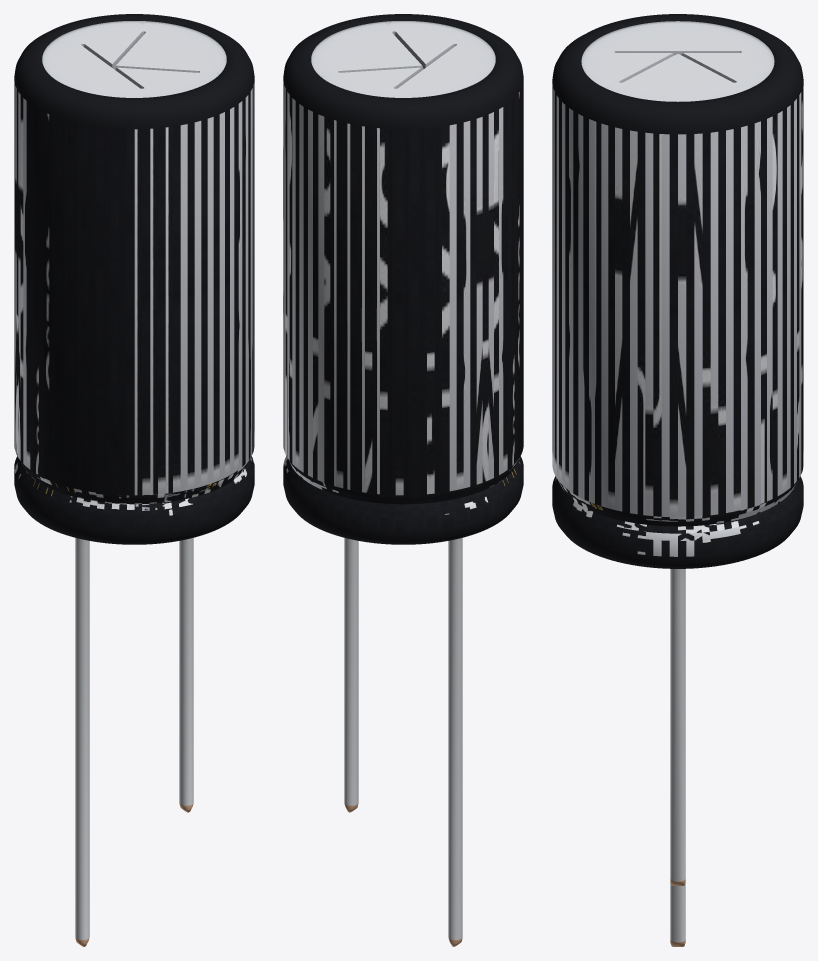
File: 03_Capacitor_Desarme_Despiece_Materiales.glb
The picture shows the model from 3 angles, left to right: view 1: azimuth 30°, elevation 25°; view 2: azimuth 150°, elevation 25°; view 3: azimuth 270°, elevation 25°; orthographic projection. The views are drawn at different scales.
Parts seen in each view (by area): view 1: 05_Funda_PVC_Serigrafia, 04_Carcasa_Aluminio_KVent, 01_Terminal_Anodo_Pos, 01_Terminal_Catodo_Neg; view 2: 05_Funda_PVC_Serigrafia, 04_Carcasa_Aluminio_KVent, 01_Terminal_Anodo_Pos, 01_Terminal_Catodo_Neg; view 3: 05_Funda_PVC_Serigrafia, 04_Carcasa_Aluminio_KVent, 01_Terminal_Catodo_Neg, 01_Terminal_Anodo_Pos.
Boxes of the visible parts, box(x1,y1,x2,y2) form: 05_Funda_PVC_Serigrafia: box(14, 14, 254, 544); 04_Carcasa_Aluminio_KVent: box(42, 21, 226, 97); 01_Terminal_Anodo_Pos: box(75, 538, 89, 946); 01_Terminal_Catodo_Neg: box(179, 538, 193, 812); 05_Funda_PVC_Serigrafia: box(283, 14, 523, 544); 04_Carcasa_Aluminio_KVent: box(311, 21, 495, 97); 01_Terminal_Anodo_Pos: box(448, 538, 462, 946); 01_Terminal_Catodo_Neg: box(344, 538, 358, 812); 05_Funda_PVC_Serigrafia: box(552, 14, 803, 568); 04_Carcasa_Aluminio_KVent: box(581, 21, 774, 101); 01_Terminal_Catodo_Neg: box(670, 569, 685, 886); 01_Terminal_Anodo_Pos: box(670, 882, 685, 946).
Size of what is drawn, in the model's own units: 10 by 40.1 by 10.
Materials: 18 (17 with a texture image).
